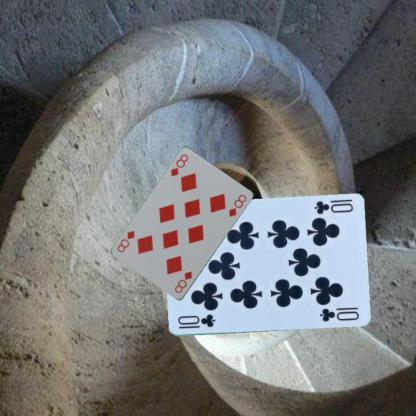10c: (311, 198, 354, 216), (174, 312, 216, 329)
8d: (167, 152, 190, 178), (172, 268, 194, 294)
